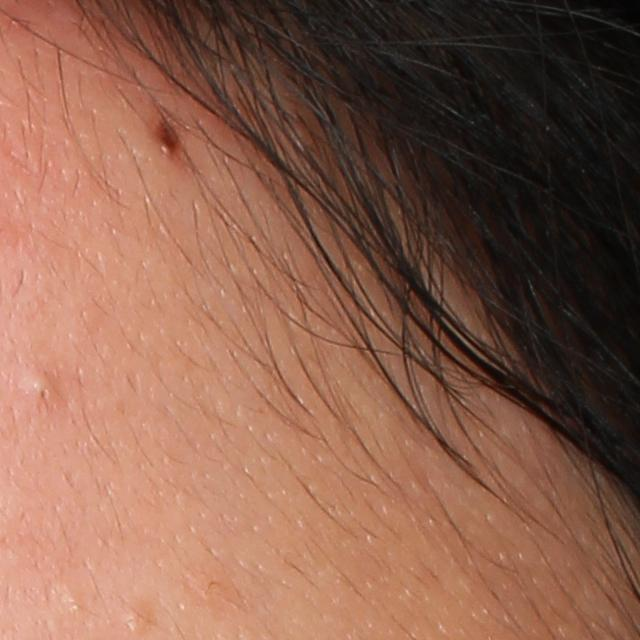comedo: (26, 370, 56, 404), (125, 607, 152, 635)
nevus: (150, 107, 193, 165)
